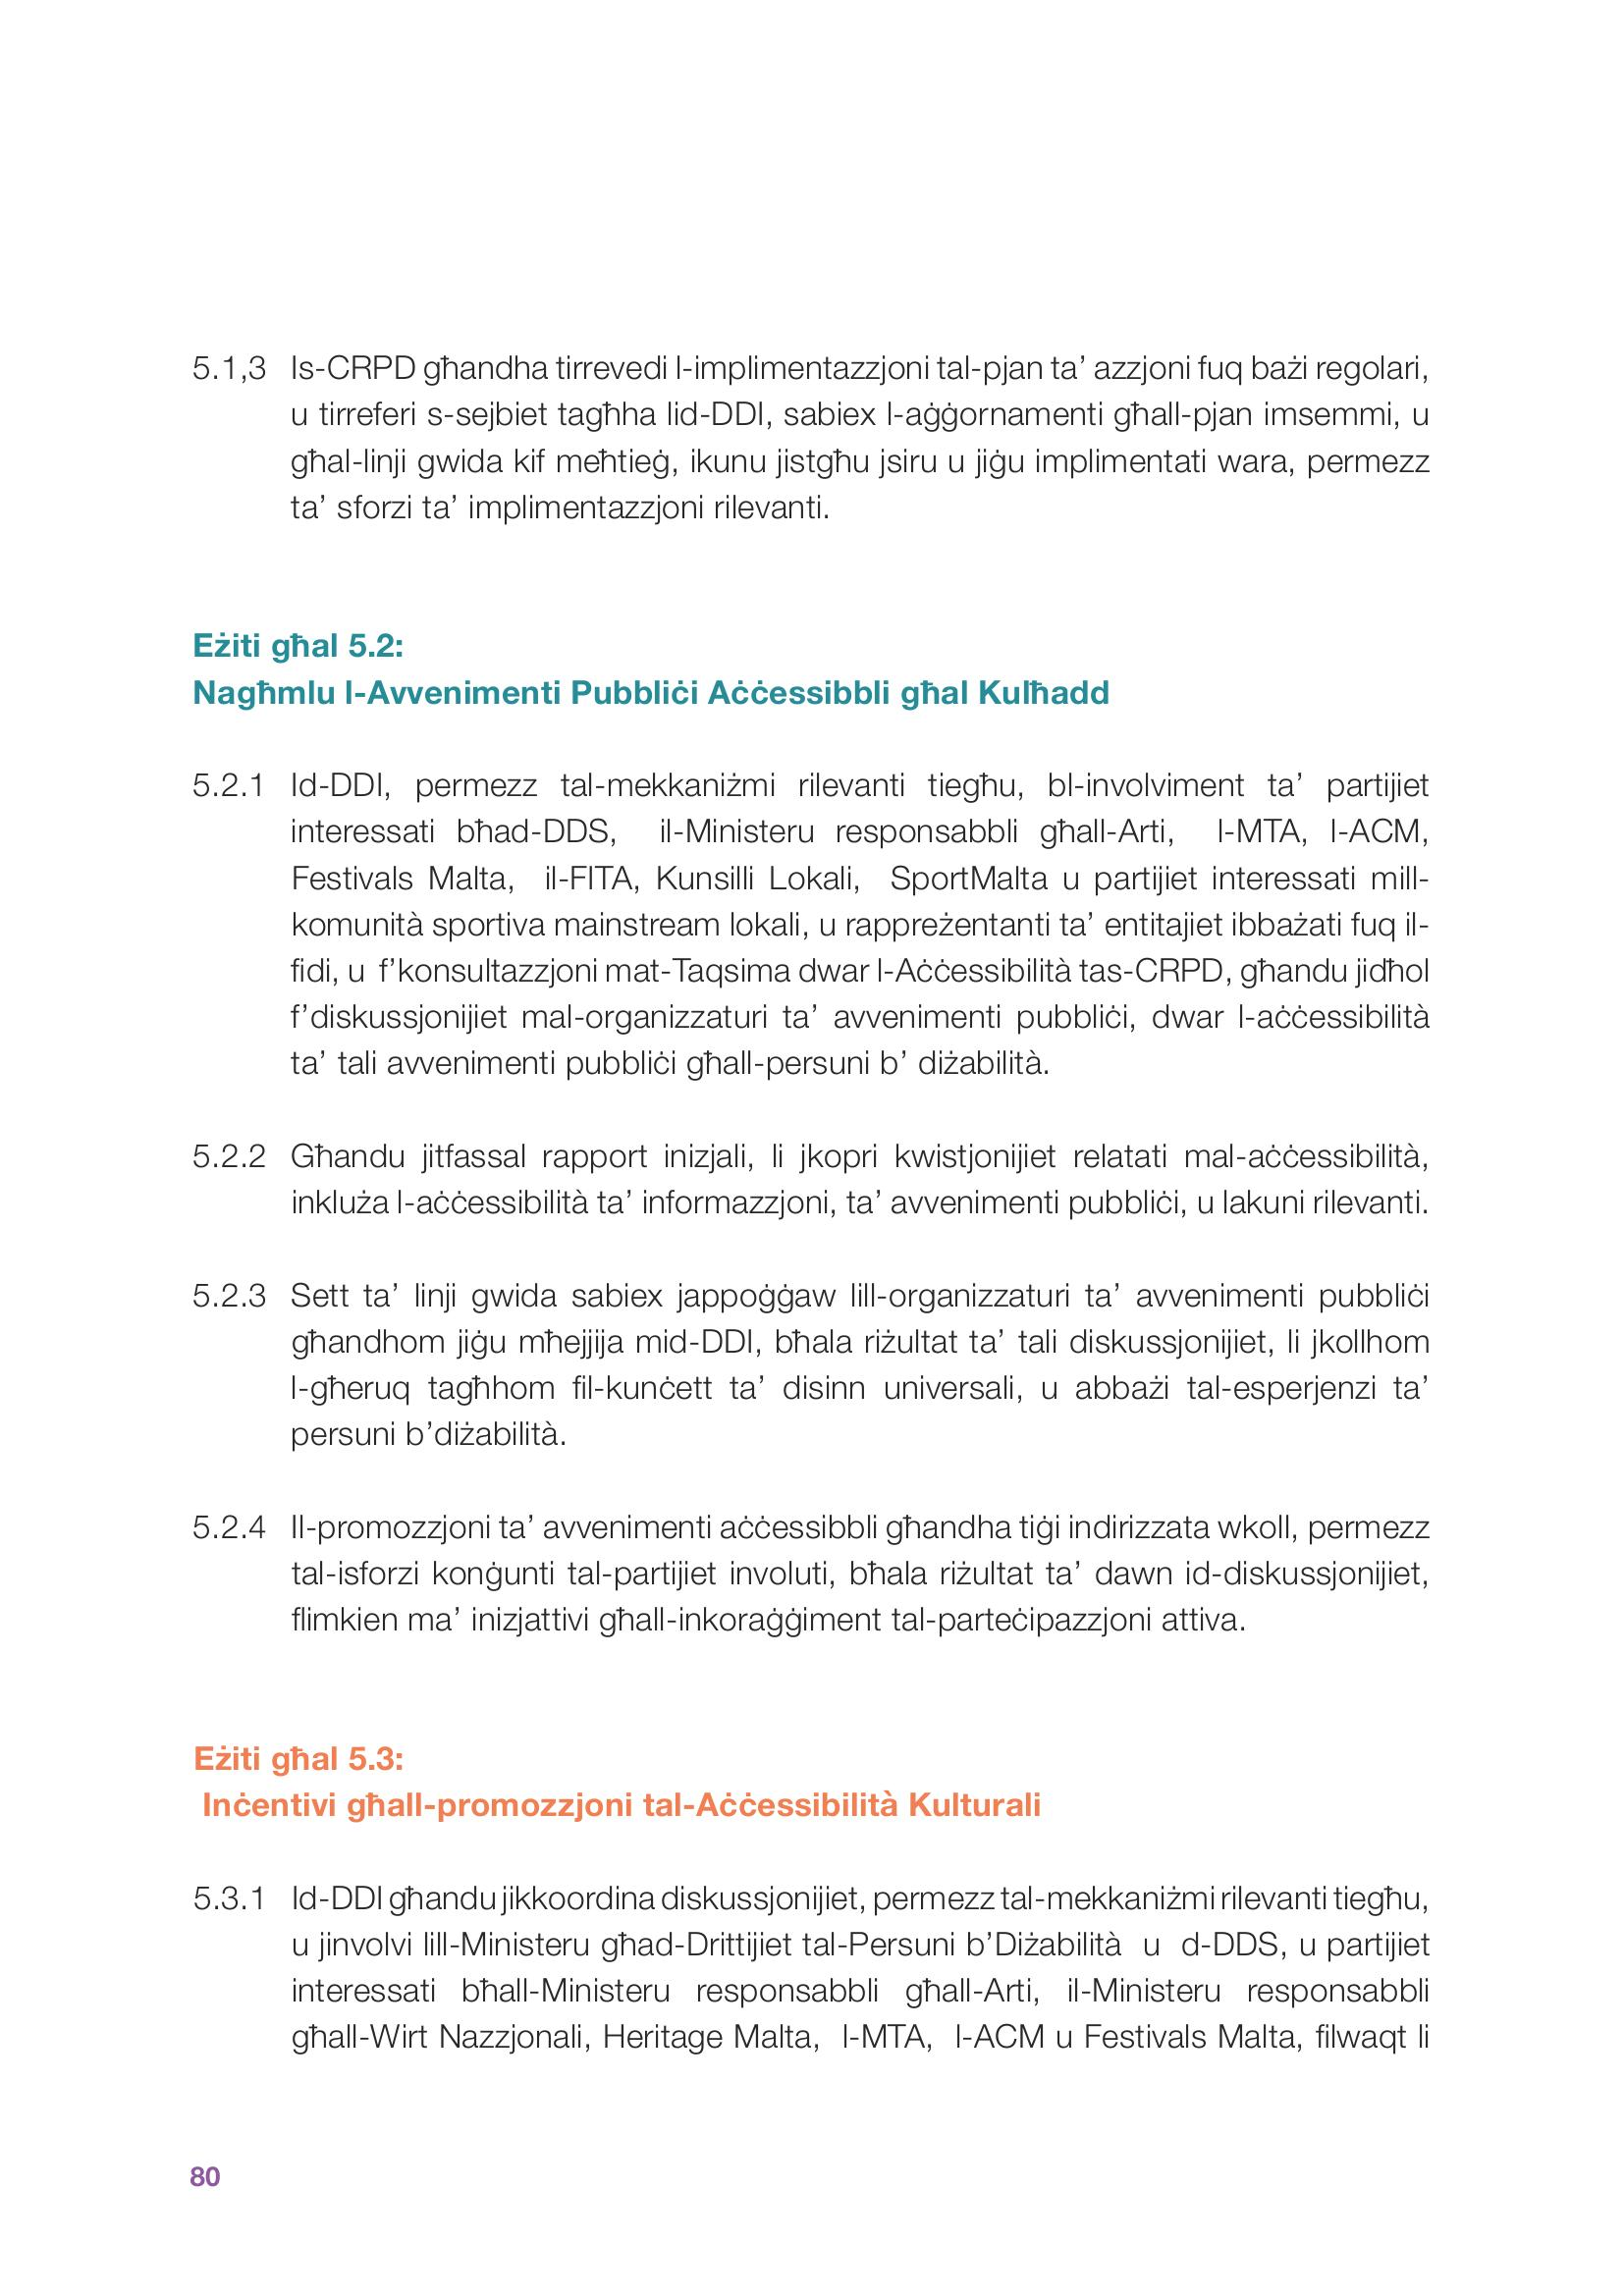text: (160, 314, 1464, 2068)
